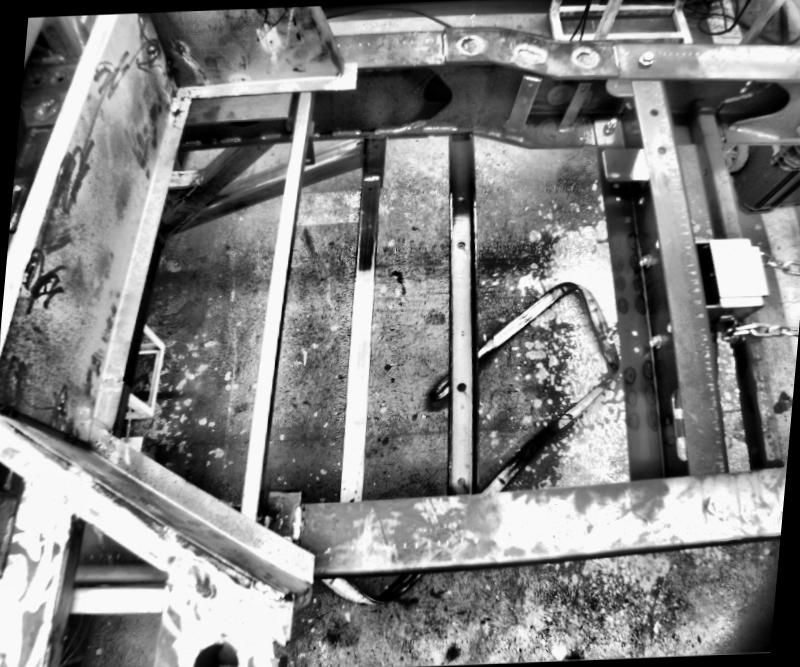bolt: (700, 489, 736, 515), (634, 45, 655, 66), (603, 115, 618, 132), (647, 332, 663, 347), (638, 253, 652, 267)
bracket: (262, 476, 316, 530), (551, 76, 591, 136), (504, 69, 540, 135), (597, 142, 653, 180), (298, 117, 322, 165)
hole: (192, 636, 241, 666), (454, 379, 469, 391), (455, 472, 466, 484), (648, 106, 658, 116), (629, 327, 641, 335), (656, 143, 666, 152), (456, 239, 466, 247), (636, 193, 644, 203), (455, 192, 464, 200), (632, 343, 640, 352), (612, 193, 620, 202), (366, 182, 374, 189), (304, 156, 312, 160), (612, 160, 618, 165), (611, 182, 618, 186), (371, 141, 376, 146), (355, 138, 360, 142)
